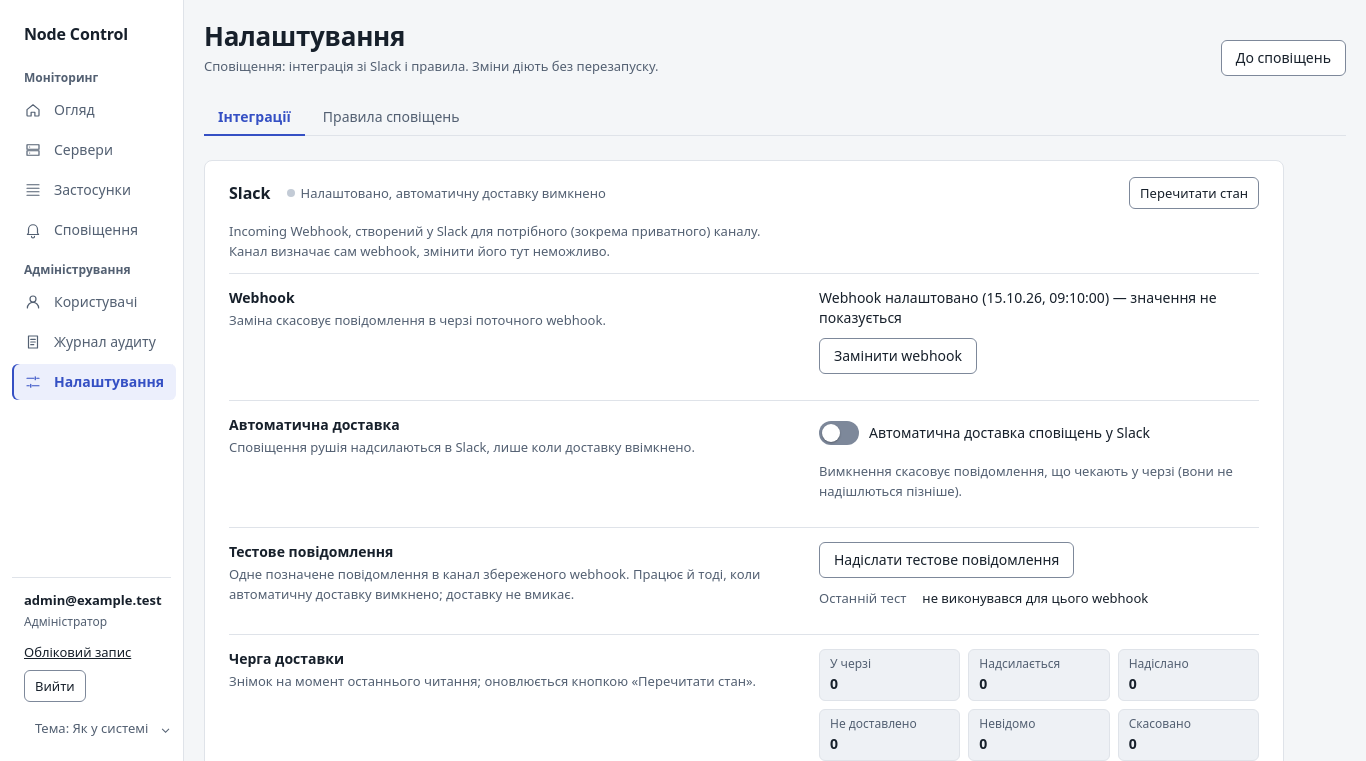
Test case: Slack integration tab › test outcome unknown (connection_lost) is shown as reported, never as success
The width and height of the screenshot is (1366, 761).
What coordinates should you click on to do the following:
click the button "Надіслати тестове повідомлення"
I would click on:
 (947, 560)
Its box is [819,542,1074,578].
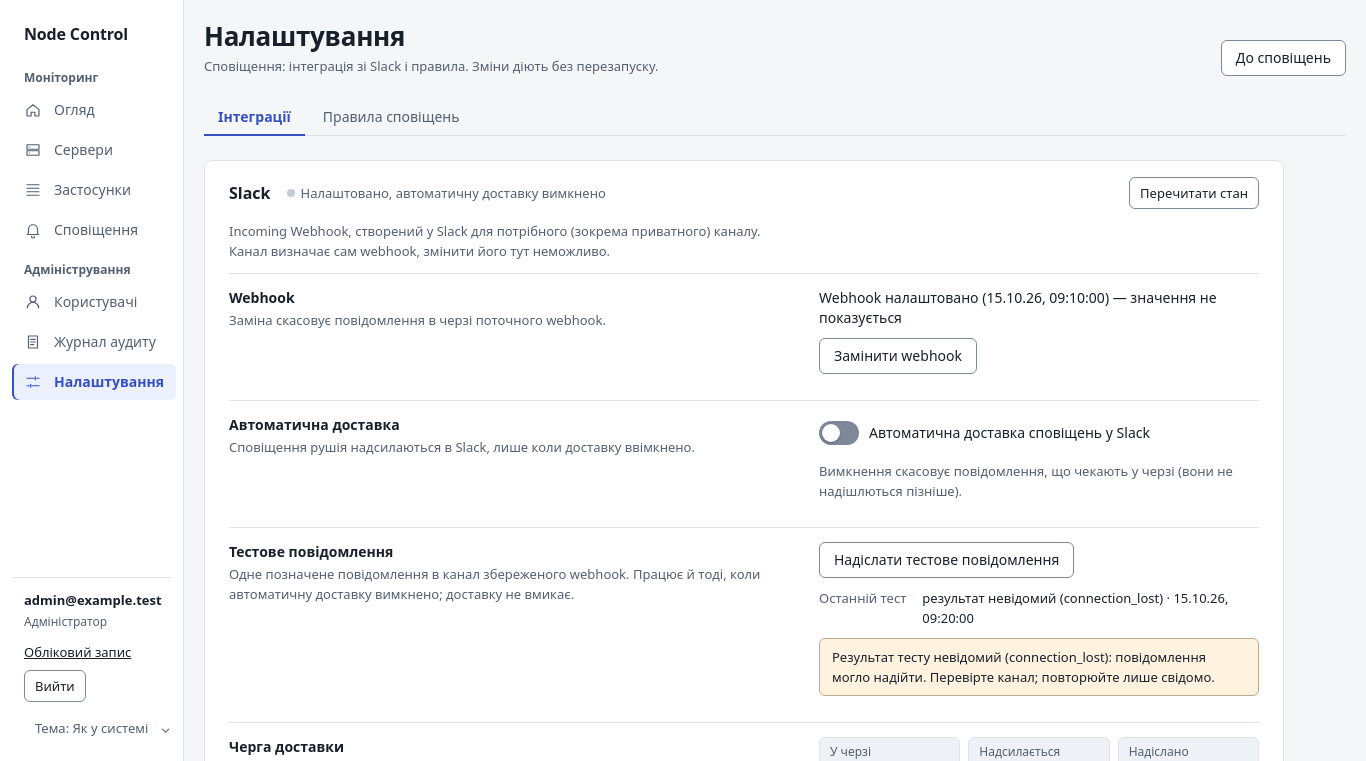
Result: the text "результат невідомий (connection_lost) · 15.10.26, 09:20:00" is shown at [922,588,1259,628]
